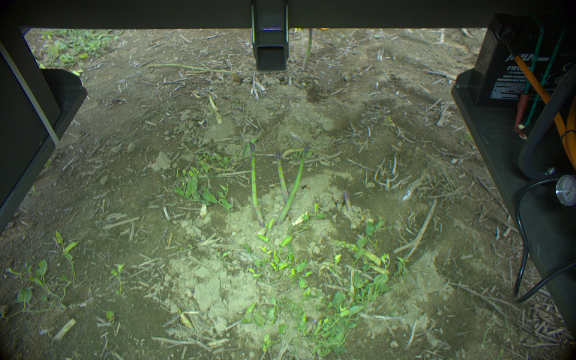aspa: (276, 143, 309, 223), (244, 139, 268, 229), (274, 151, 292, 213), (301, 28, 315, 73), (342, 191, 355, 221)
